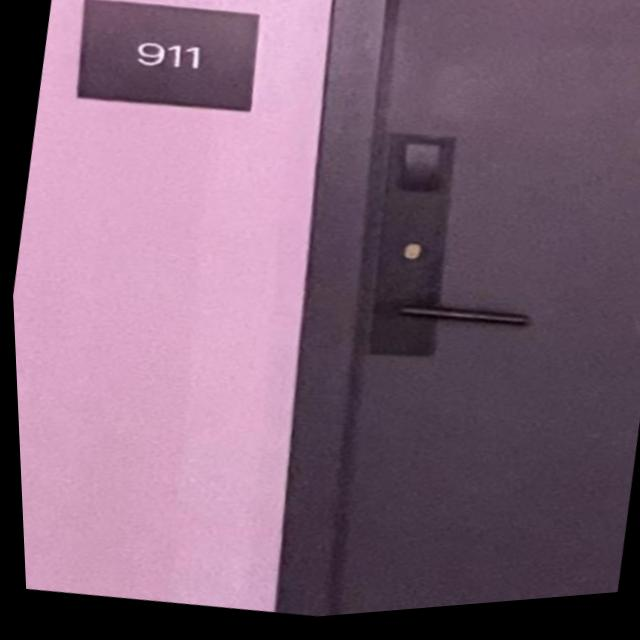door_handle: (372, 283, 545, 363)
